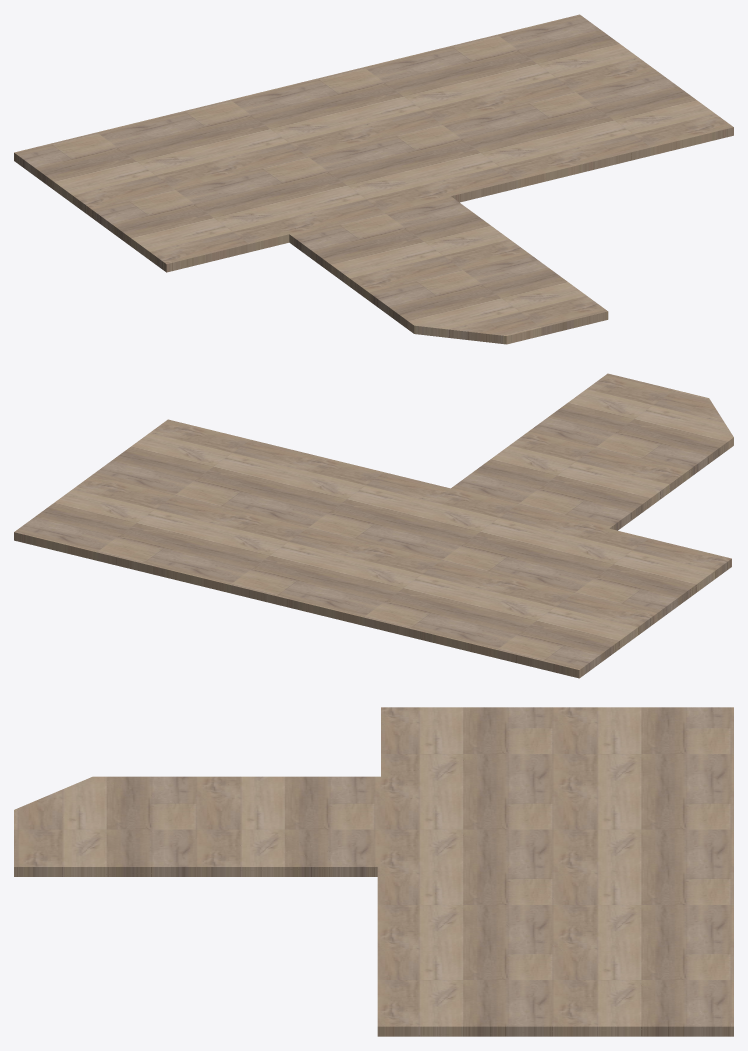
File: Floor_RivergroveValorOak_.glb
3 renders of one model, top to bottom at view 1: azimuth 30°, elevation 25°; view 2: azimuth 150°, elevation 25°; view 3: azimuth 270°, elevation 25°, orthographic. The views are drawn at different scales.
Visible parts, largest first — view 1: Floor_Rivergrove Valor Oak.001; view 2: Floor_Rivergrove Valor Oak.001; view 3: Floor_Rivergrove Valor Oak.001.
Boxes of the visible parts, x1,y1,x2,y2 form: Floor_Rivergrove Valor Oak.001: (14,14,733,344); Floor_Rivergrove Valor Oak.001: (14,373,733,678); Floor_Rivergrove Valor Oak.001: (14,707,733,1036).
Size of the model in its own units: 21.2 by 0.3 by 20.2.
Materials: 1 (1 with a texture image).
